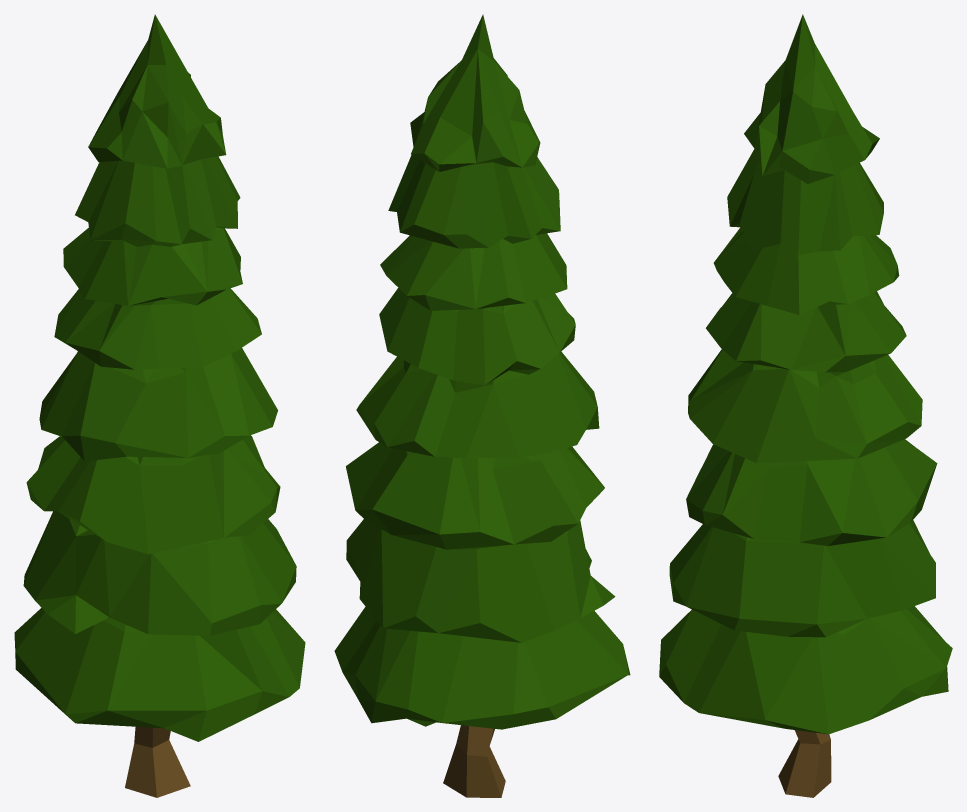
3 views of the same model, side by side, from view 1: azimuth 30°, elevation 25°; view 2: azimuth 150°, elevation 25°; view 3: azimuth 270°, elevation 25° (orthographic).
Parts seen in each view (by area): view 1: _2_tree; view 2: _2_tree; view 3: _2_tree.
Part boxes in pixels (x1,y1,x2,y2): _2_tree: [14, 14, 305, 797]; _2_tree: [334, 14, 630, 797]; _2_tree: [659, 14, 952, 797].
Size of the model in its own units: 0.8524 by 2.49 by 0.8631.
